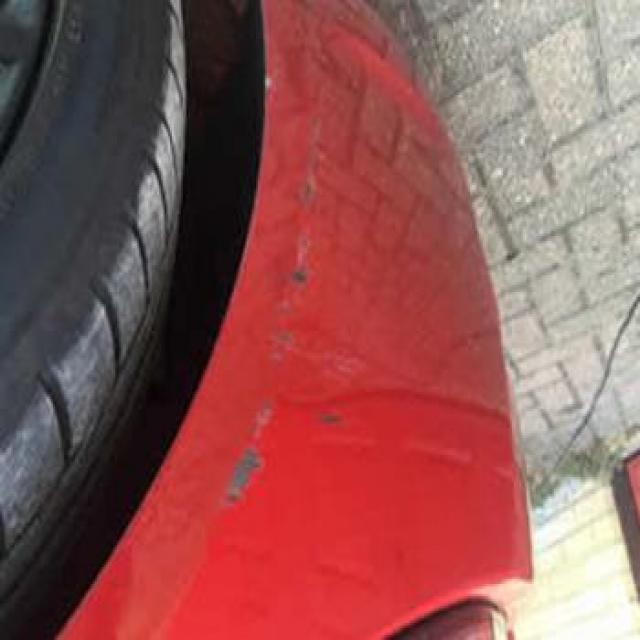scratch: (210, 104, 360, 542)
